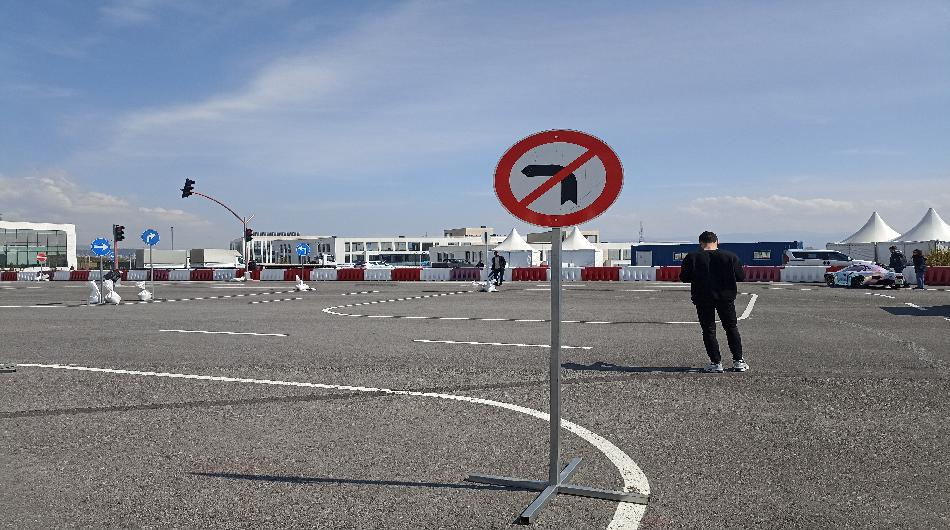sola_donulmez: (492, 127, 624, 227)
